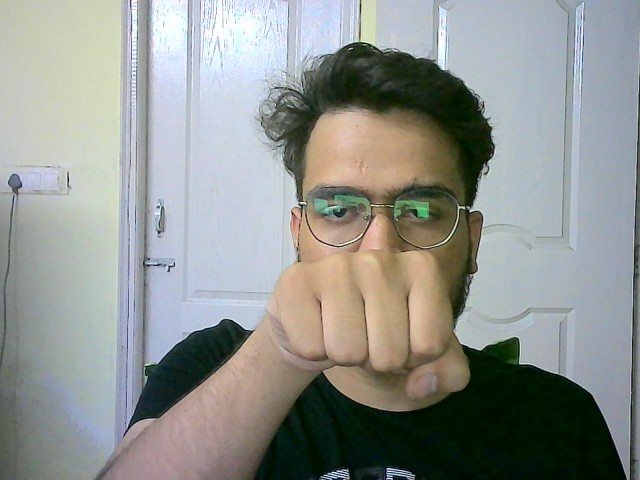Yes: (261, 243, 480, 402)
